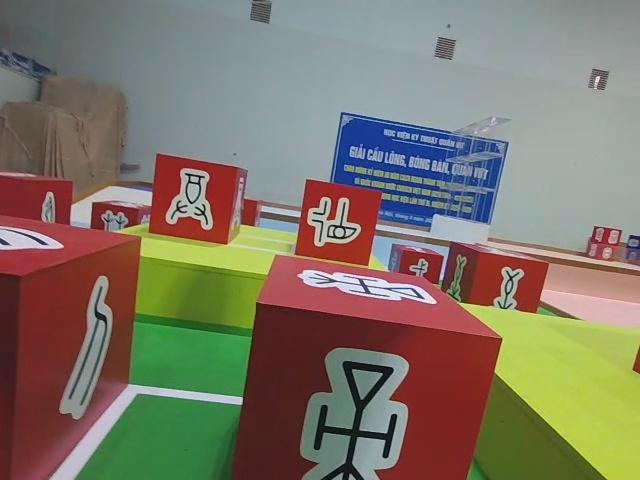R2 Real: (227, 250, 504, 480), (0, 210, 143, 480), (147, 151, 251, 248), (439, 237, 551, 318), (291, 176, 384, 267)
